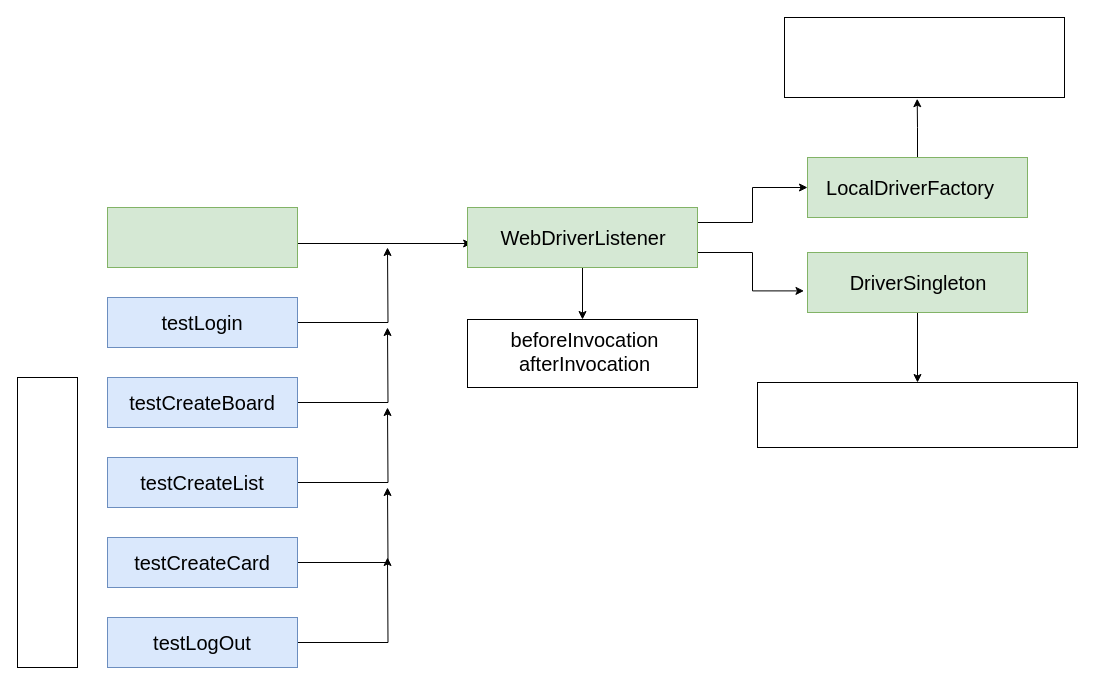
This 1101x685 diagram has some shape labels left out. Each missing label, with the box of its shape:
chromedriver Dimension navegador url: (784, 16, 1064, 98)
dependsOnMethods: (16, 376, 78, 668)
testng.xml: (106, 206, 298, 268)
WebDriver getDriver() setWebDriver(WebDriver driver): (756, 382, 1078, 448)
